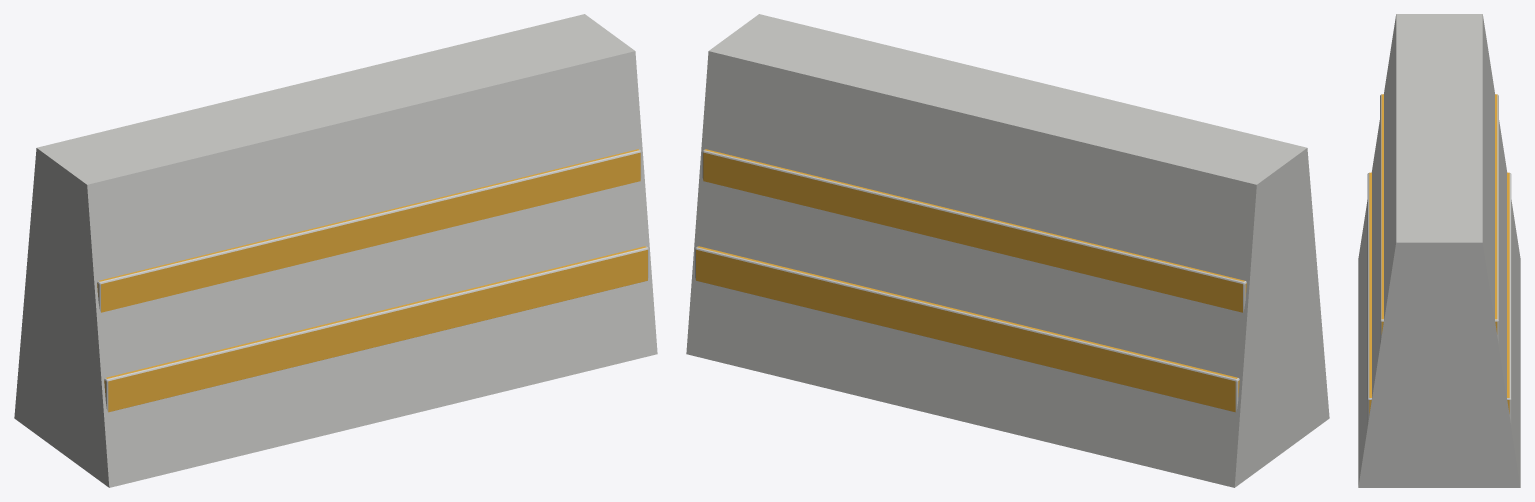
File: Obstacle_Barrier.fbx
3 renders of one model, left to right at view 1: azimuth 30°, elevation 25°; view 2: azimuth 150°, elevation 25°; view 3: azimuth 270°, elevation 25°, orthographic. The views are drawn at different scales.
Parts seen in each view (by area): view 1: Obstacle_Barrier; view 2: Obstacle_Barrier; view 3: Obstacle_Barrier.
Part boxes in pixels (x1=…): Obstacle_Barrier: x1=14, y1=14, x2=657, y2=487; Obstacle_Barrier: x1=686, y1=14, x2=1329, y2=487; Obstacle_Barrier: x1=1358, y1=14, x2=1520, y2=487.
Size of the model in its own units: 33000 by 16500 by 9900.
